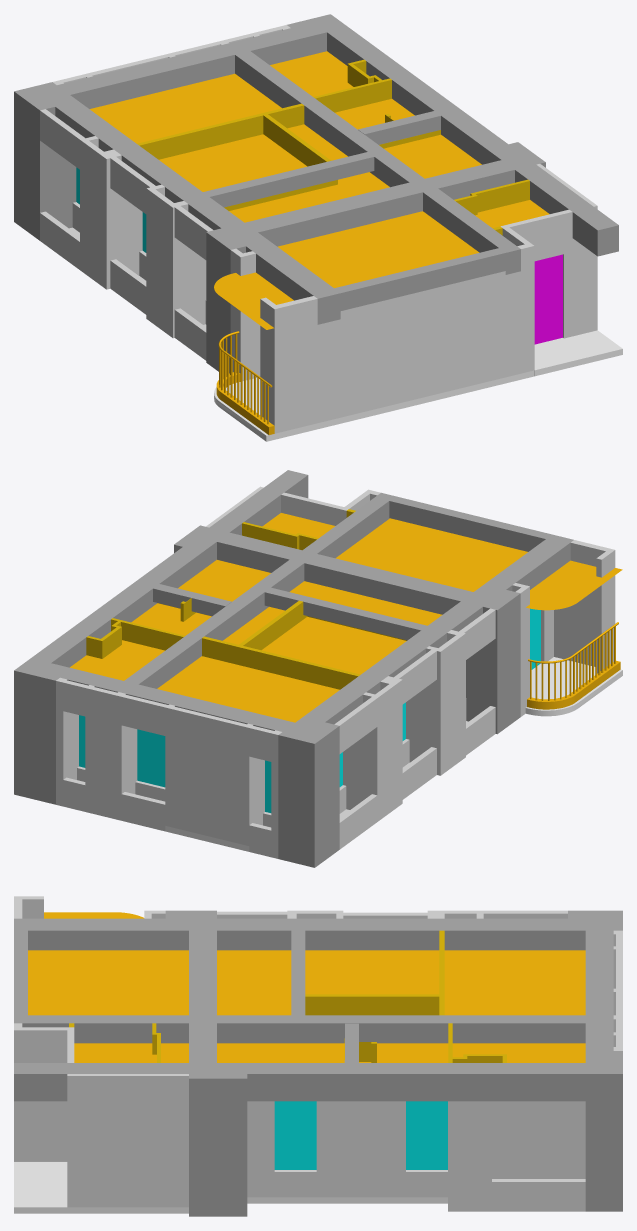
3 views of the same model, one above another, from view 1: azimuth 30°, elevation 25°; view 2: azimuth 150°, elevation 25°; view 3: azimuth 270°, elevation 25° (orthographic). The views are drawn at different scales.
Size of the model in its own units: 9.44 by 3.25 by 13.02.
